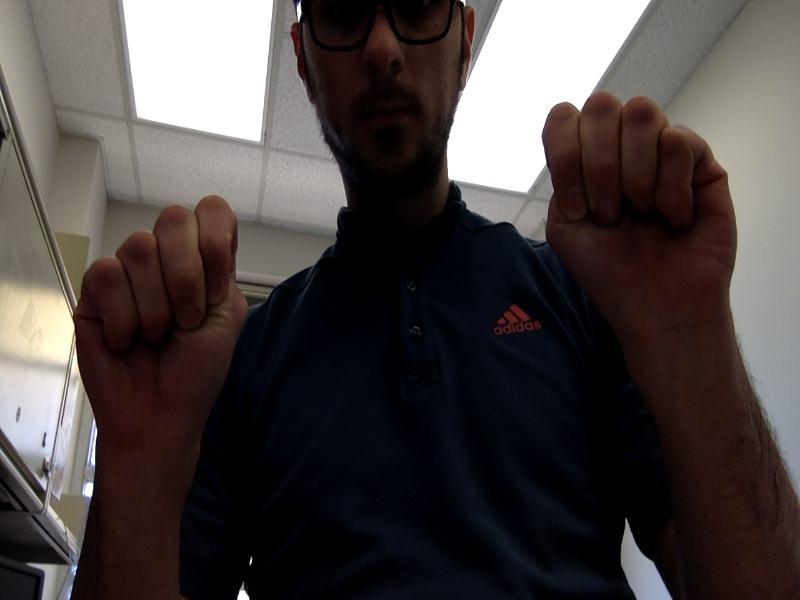0-hand: (545, 93, 737, 320), (74, 198, 248, 444)
